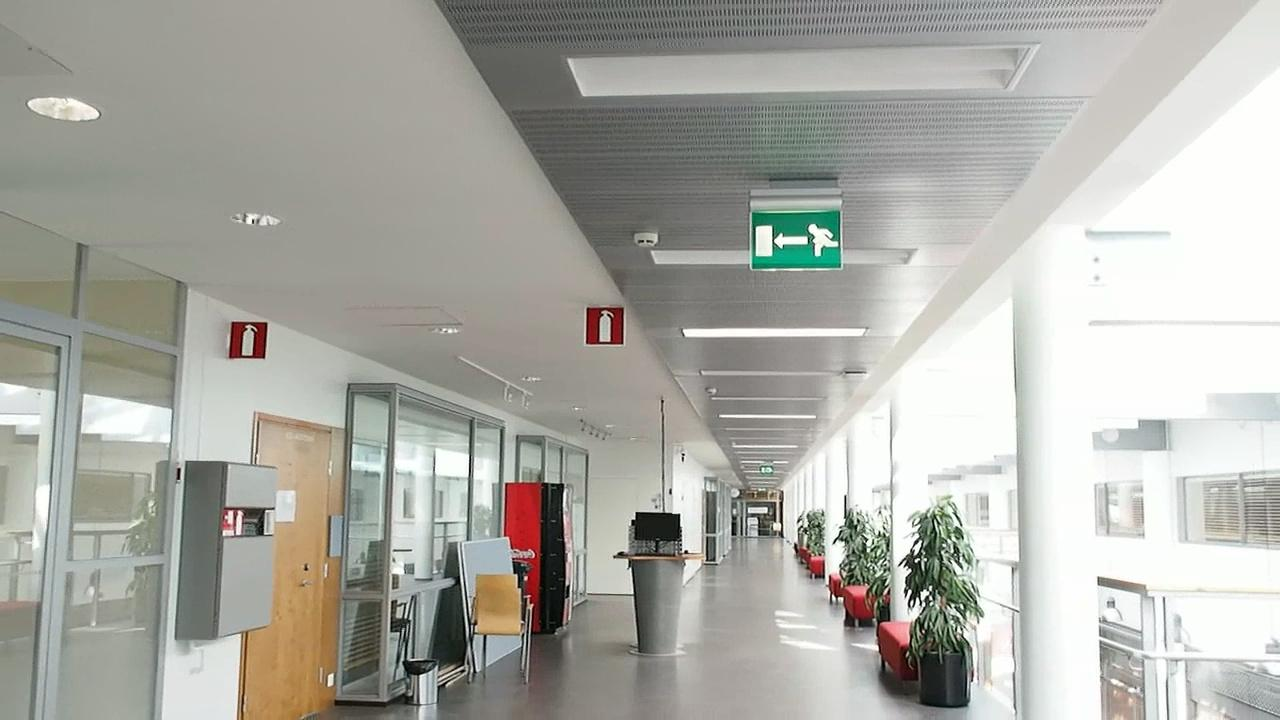chair: (463, 561, 530, 687)
exit: (750, 205, 851, 273)
